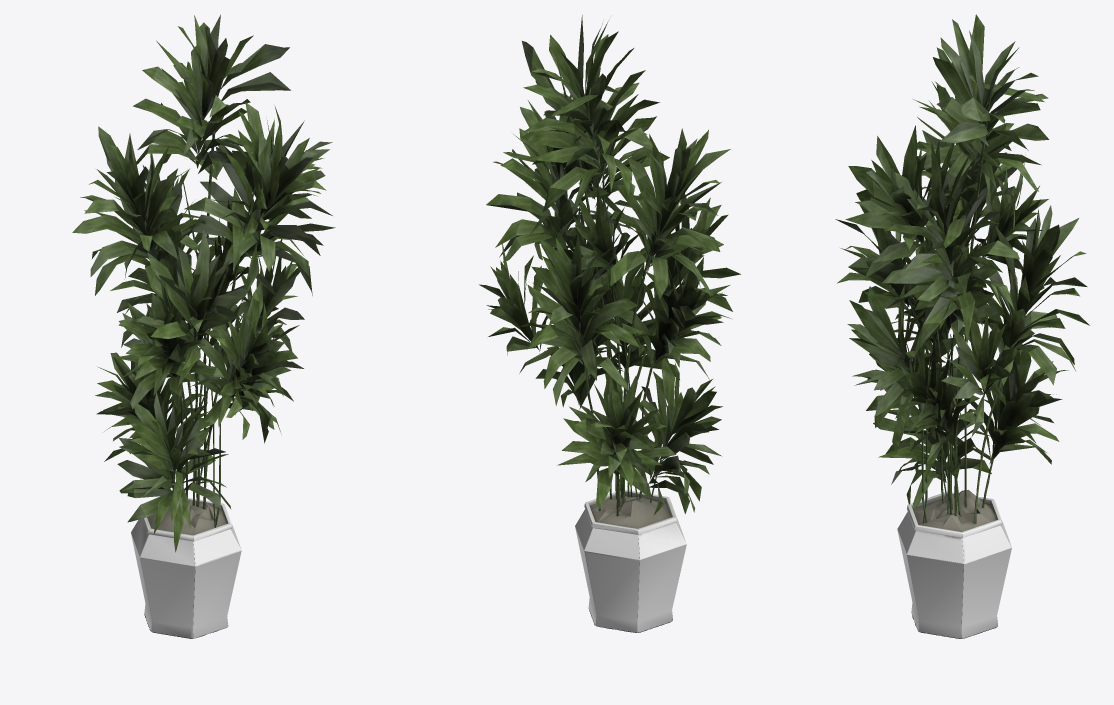
The model's file is raw_model.obj.
3 views of the same model, side by side, from view 1: azimuth 30°, elevation 25°; view 2: azimuth 150°, elevation 25°; view 3: azimuth 270°, elevation 25° (orthographic). The views are drawn at different scales.
Parts seen in each view (by area): view 1: solid_003, solid_004, solid_002, solid_001; view 2: solid_003, solid_004, solid_002, solid_001; view 3: solid_003, solid_004, solid_002, solid_001.
Boxes of the visible parts, x1,y1,x2,y2 form: solid_003: (72,14,335,552); solid_004: (131,498,241,638); solid_002: (144,130,269,527); solid_001: (147,499,227,535); solid_003: (479,15,740,514); solid_004: (575,489,686,632); solid_002: (557,62,677,516); solid_001: (590,495,671,528); solid_003: (835,14,1089,510); solid_004: (897,491,1011,638); solid_002: (906,80,1011,523); solid_001: (913,490,996,531).
Size of the model in its own units: 0.9728 by 2.26 by 0.9168.
Materials: 1 (1 with a texture image).
